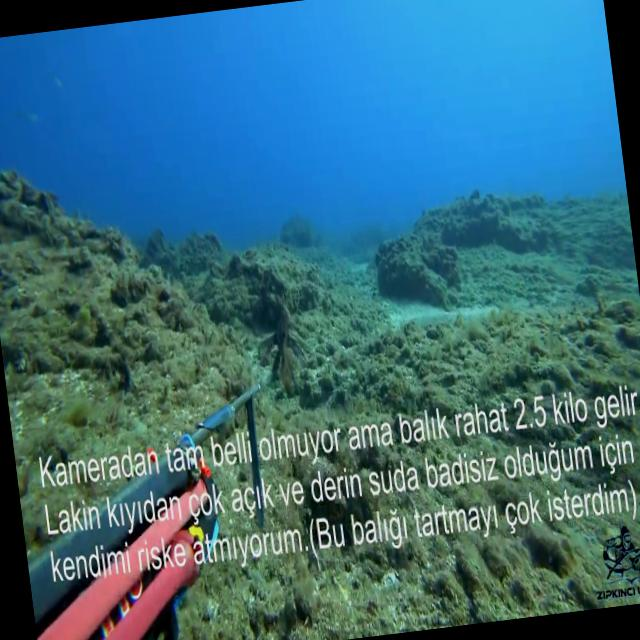Aslan Baligi: (245, 272, 318, 399)
